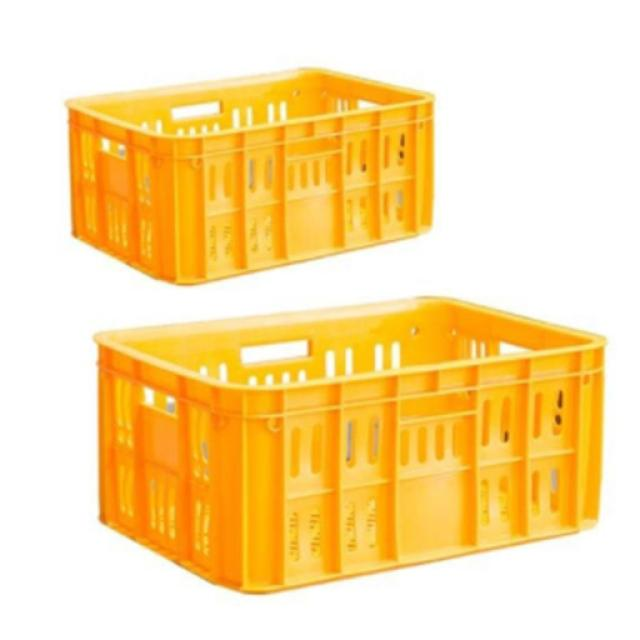basket: (94, 293, 612, 597), (67, 64, 440, 287)
